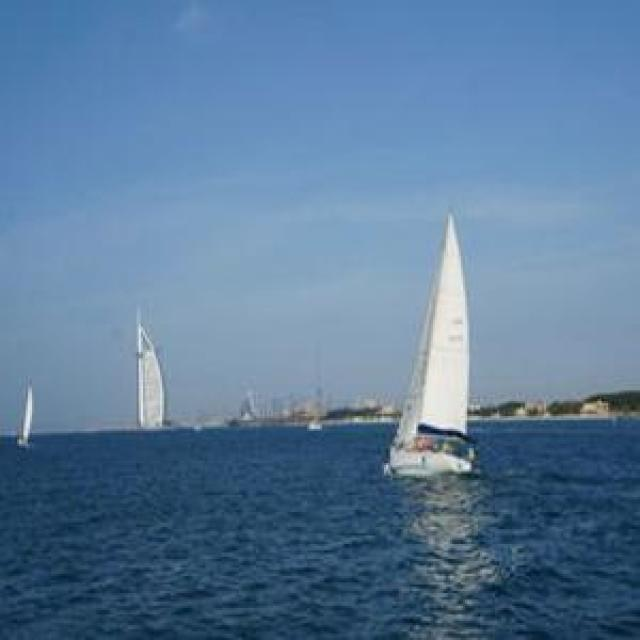sailboat: (384, 208, 478, 478), (124, 303, 176, 435), (14, 376, 37, 447)
